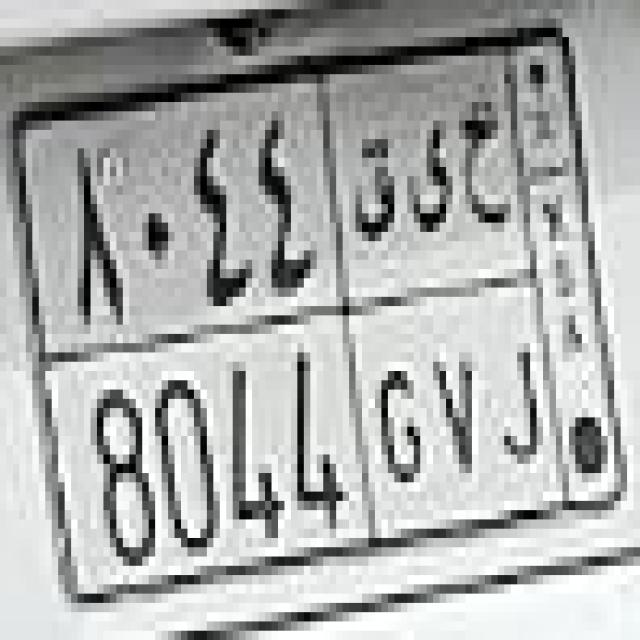license_plate: (9, 22, 628, 606)
